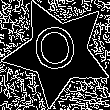O_S: (32, 23, 83, 81)
